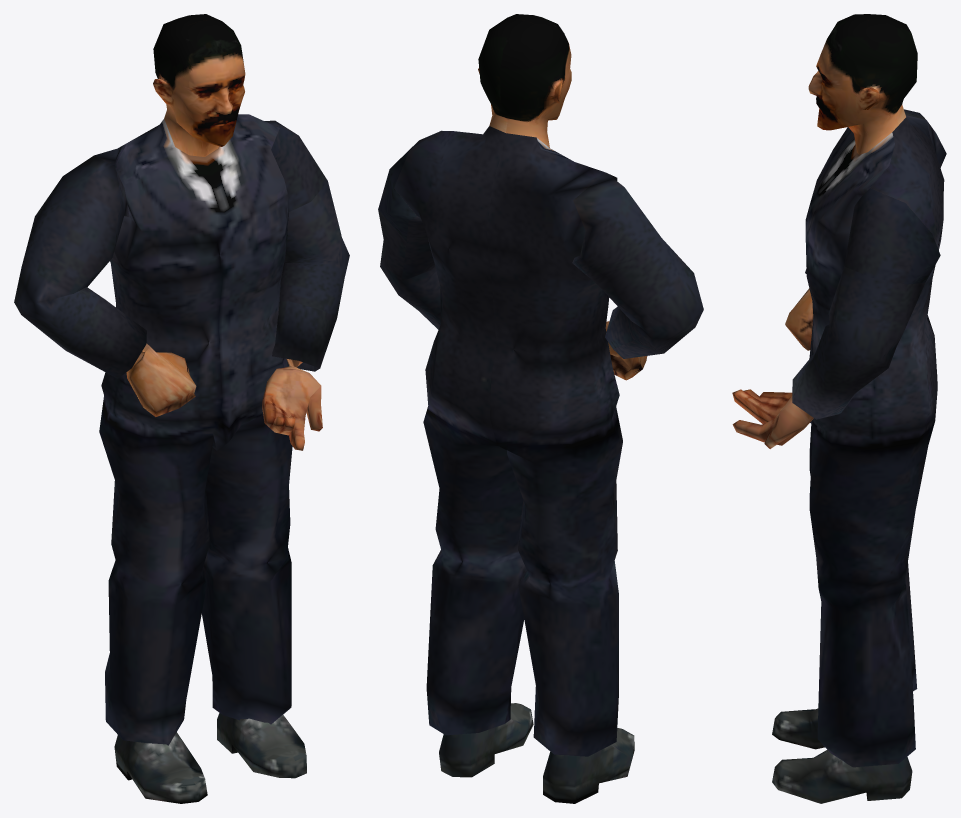
Rendered from EMIRBODYGUARD.glb.
3 renders of one model, left to right at view 1: azimuth 30°, elevation 25°; view 2: azimuth 150°, elevation 25°; view 3: azimuth 270°, elevation 25°, orthographic.
Parts seen in each view (by area): view 1: NEWSKIN; view 2: NEWSKIN; view 3: NEWSKIN.
Part boxes in pixels (bbox=[...]): NEWSKIN: bbox=[14, 14, 349, 803]; NEWSKIN: bbox=[378, 14, 703, 803]; NEWSKIN: bbox=[732, 14, 946, 803].
Size of the model in its own units: 0.7904 by 1.77 by 0.4599.
1 material, 1 textured.
